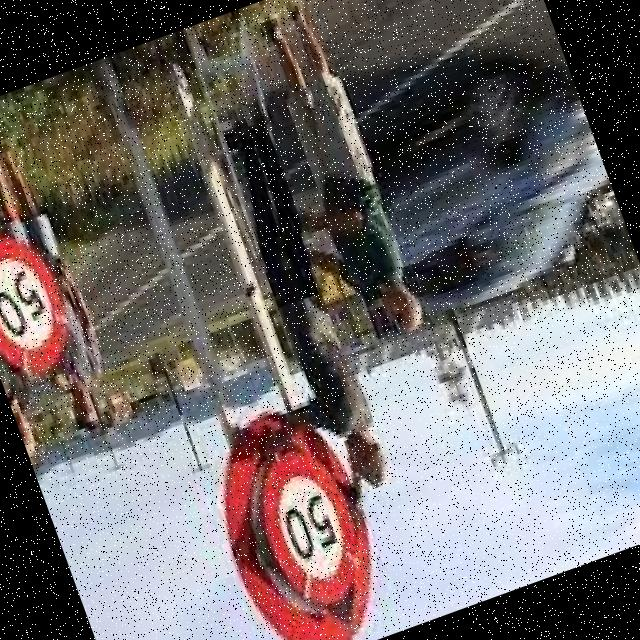speed_limit_50: (241, 438, 374, 610), (0, 220, 88, 389)
